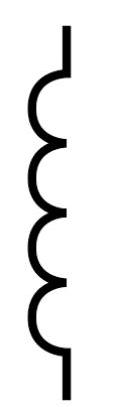inductor: (4, 42, 110, 380)
